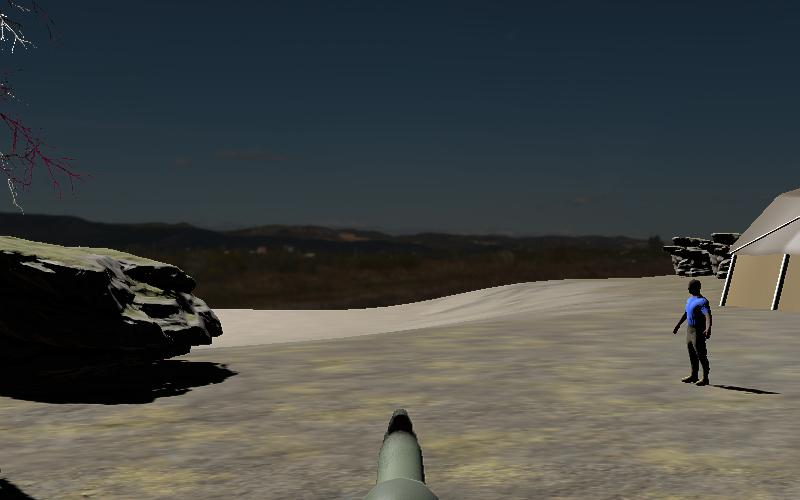Human: (669, 277, 716, 390)
